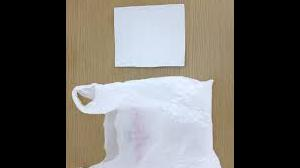Plastic: (69, 77, 222, 167)
